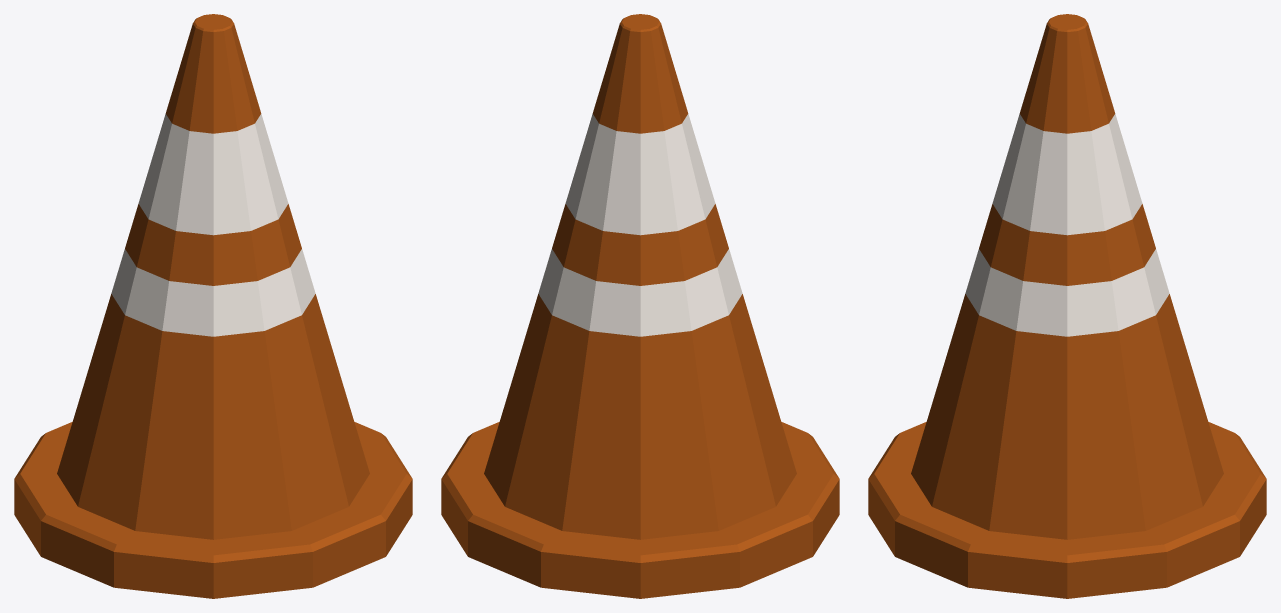
3 renders of one model, left to right at view 1: azimuth 30°, elevation 25°; view 2: azimuth 150°, elevation 25°; view 3: azimuth 270°, elevation 25°, orthographic.
Visible parts, largest first — view 1: LP_Cone_02; view 2: LP_Cone_02; view 3: LP_Cone_02.
Boxes of the visible parts, x1=… form: LP_Cone_02: x1=14, y1=14, x2=412, y2=598; LP_Cone_02: x1=441, y1=14, x2=839, y2=598; LP_Cone_02: x1=868, y1=14, x2=1266, y2=598.
Size of the model in its own units: 0.3541 by 0.4832 by 0.3541.
